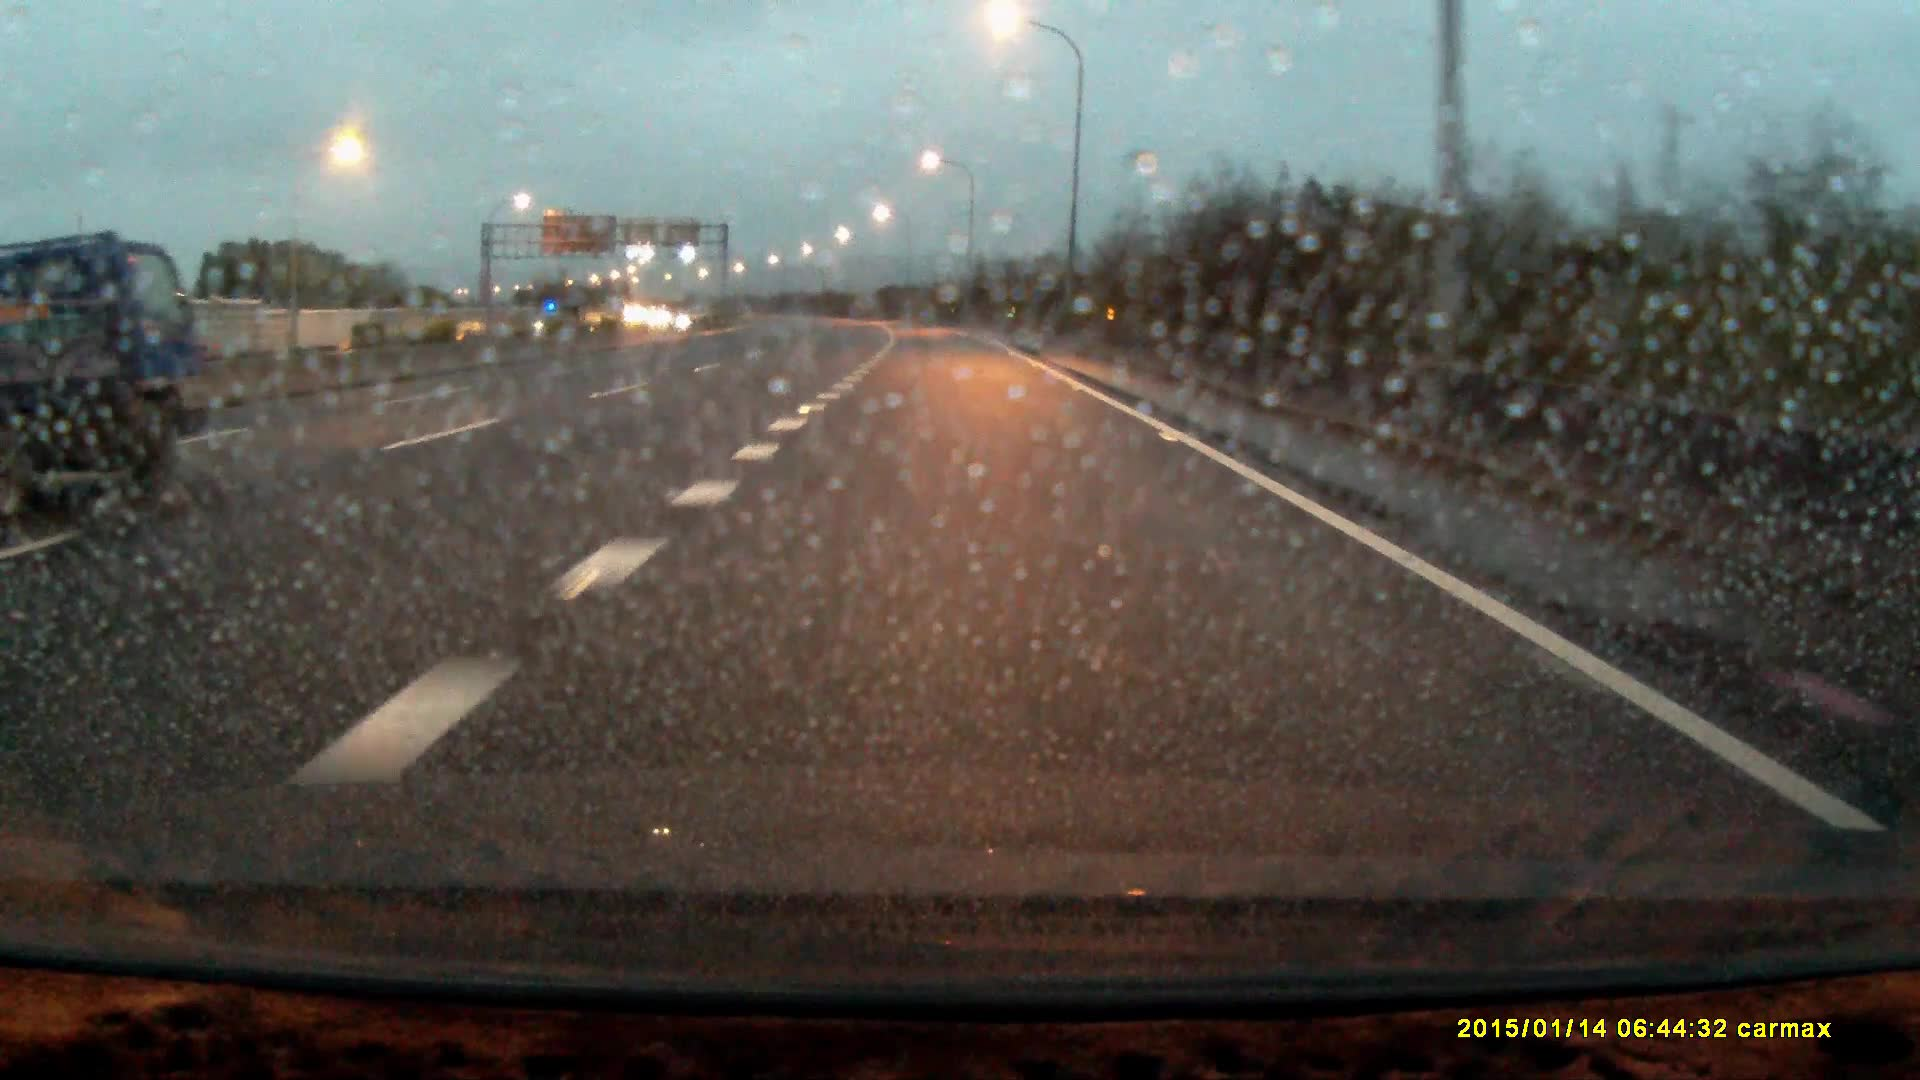vehicle: (1, 220, 255, 524)
